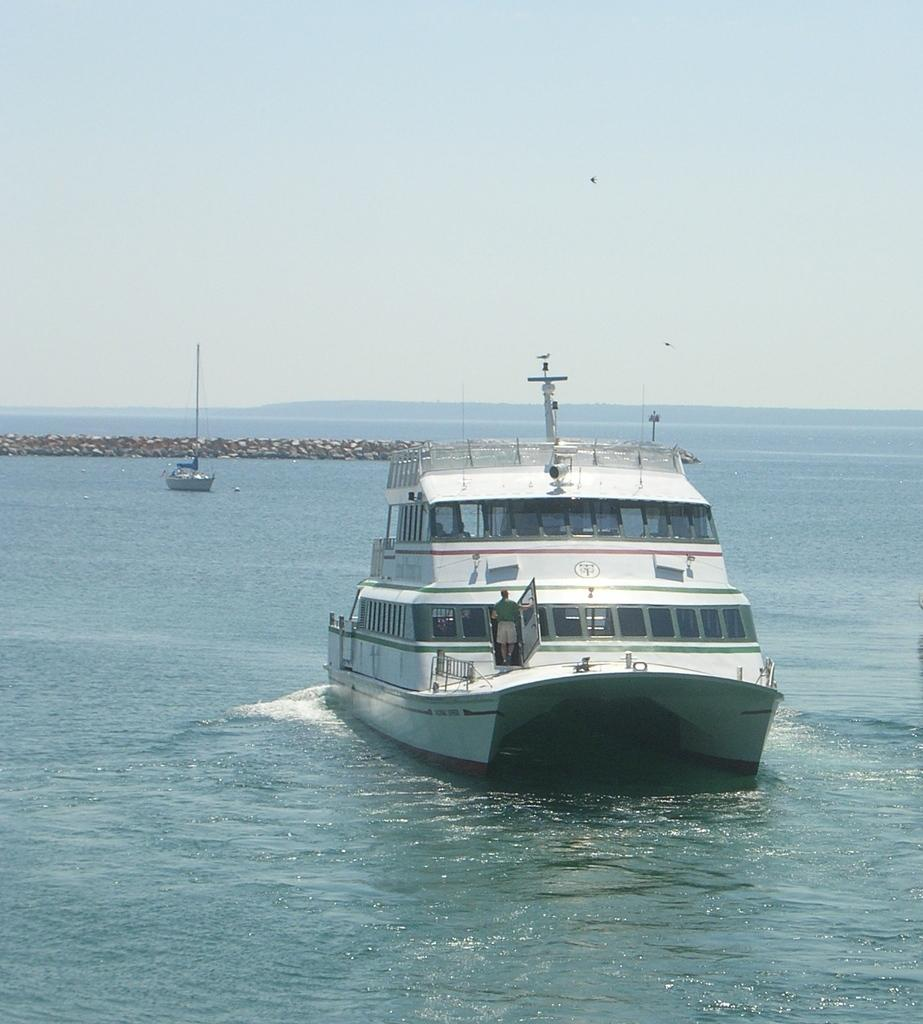PassengerShip: (313, 384, 829, 800)
